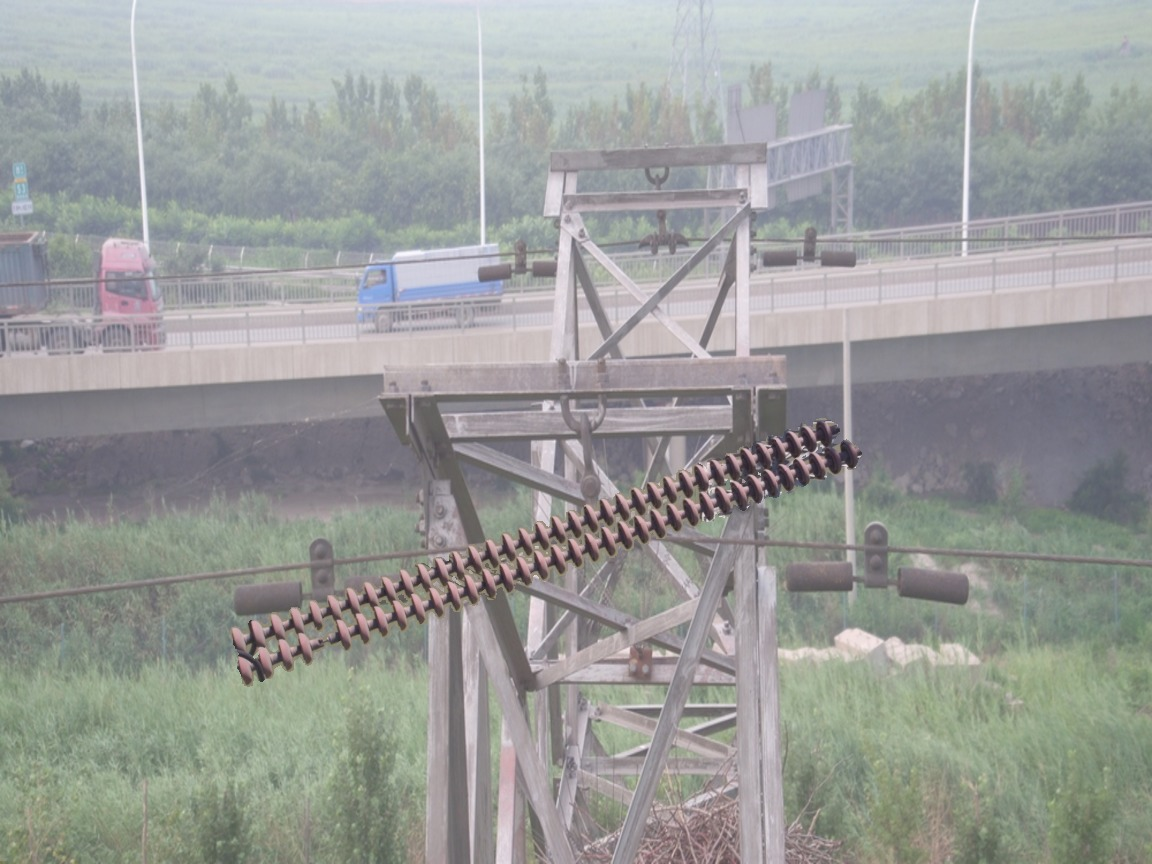defect: (294, 616, 355, 667)
